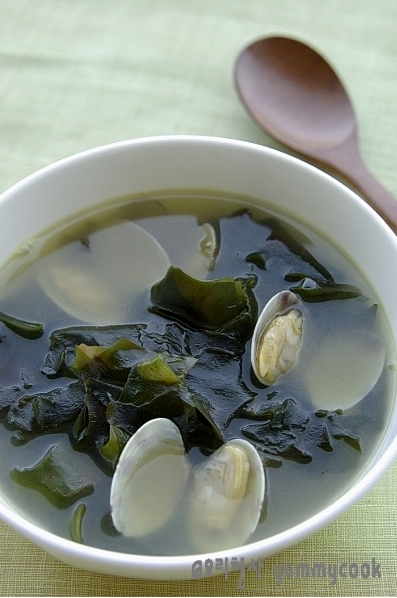miyeoggug: (12, 164, 383, 522)
